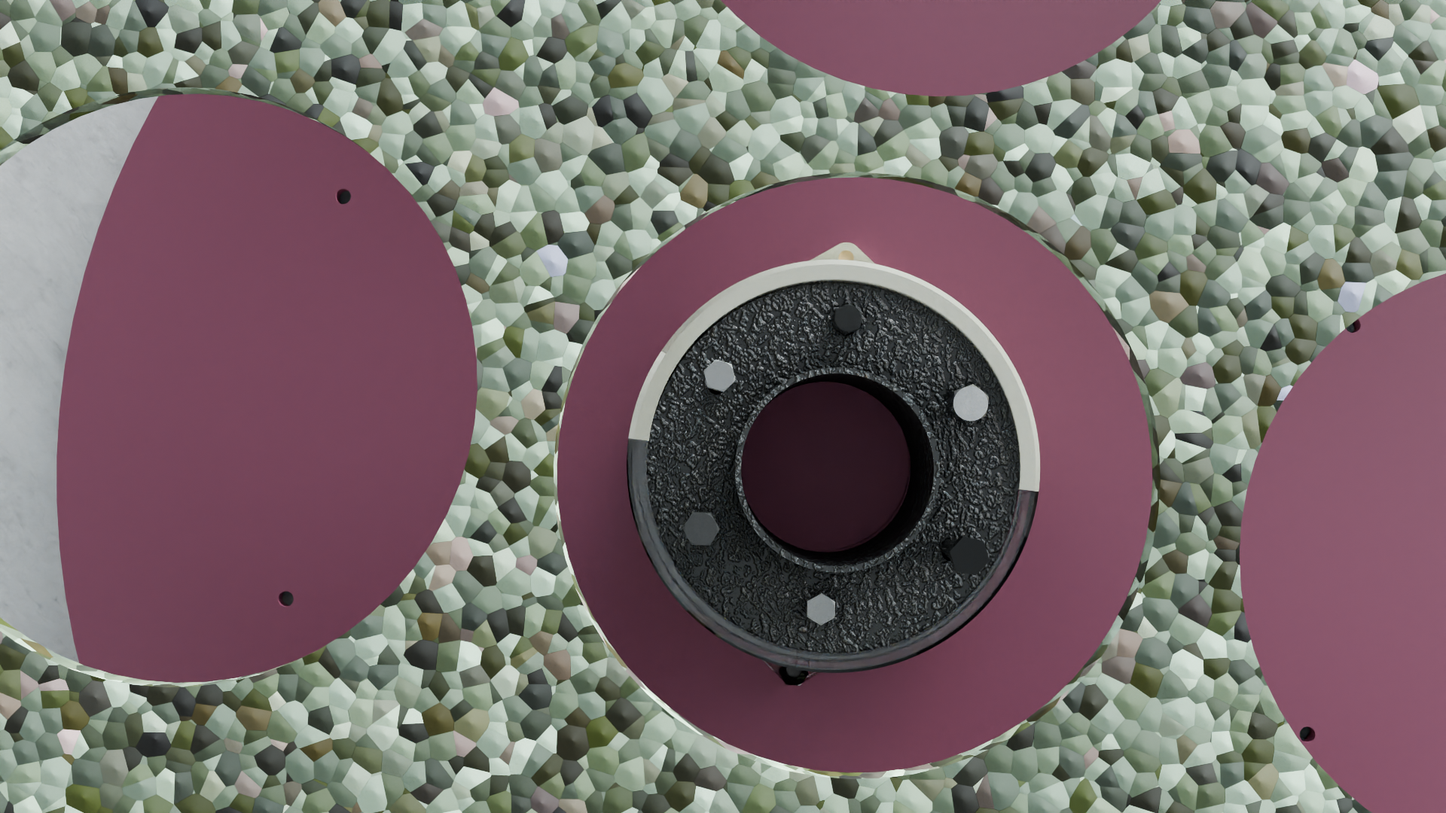bolt: (951, 384, 989, 424), (950, 537, 990, 575), (682, 513, 719, 545), (703, 360, 735, 391), (807, 593, 835, 626), (834, 303, 862, 333)
